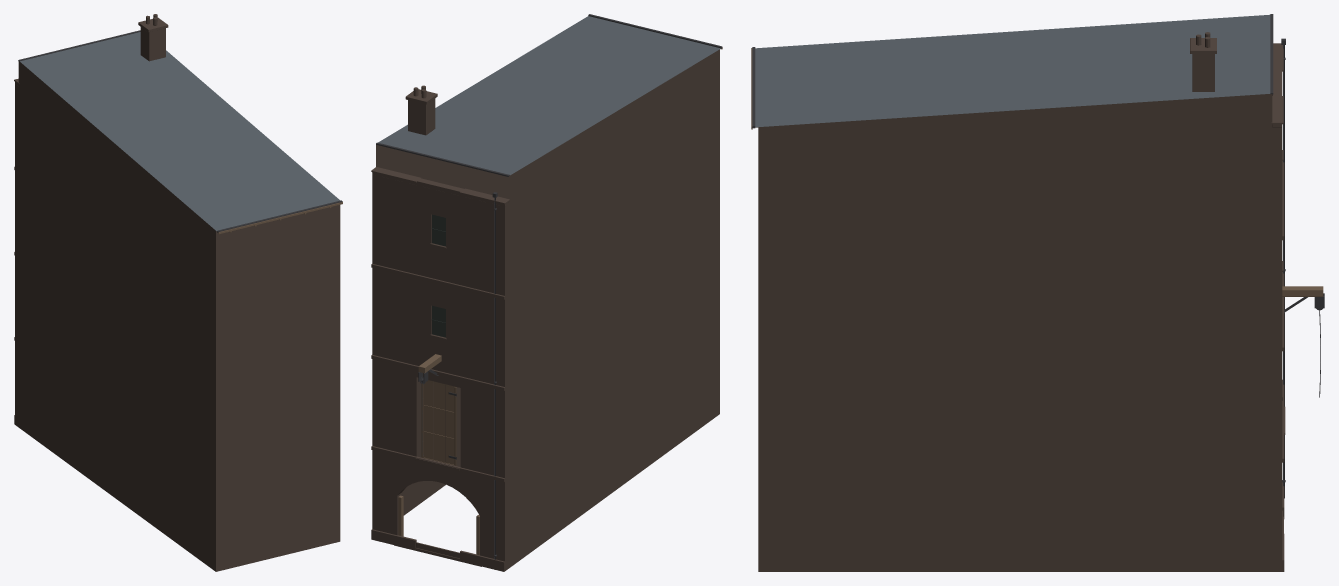
The model's file is terrace2-4.glb.
The picture shows the model from 3 angles, left to right: view 1: azimuth 30°, elevation 25°; view 2: azimuth 150°, elevation 25°; view 3: azimuth 270°, elevation 25°; orthographic projection. The views are drawn at different scales.
Visible parts, largest first — view 1: terrace2-4; view 2: terrace2-4; view 3: terrace2-4.
Boxes of the visible parts, bbox=[...] form: terrace2-4: bbox=[14, 14, 342, 571]; terrace2-4: bbox=[371, 14, 722, 571]; terrace2-4: bbox=[751, 14, 1324, 571].
Bounding box in the file's own units: 5.03 × 15.53 × 15.31.
